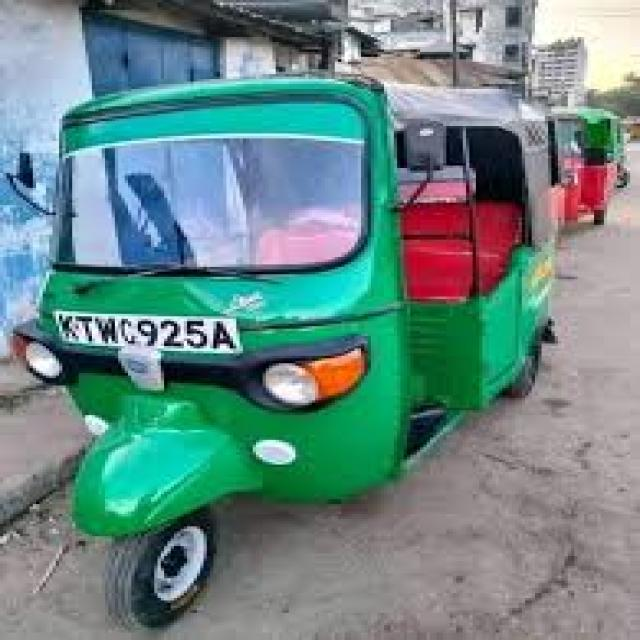tuktuk: (6, 32, 627, 640)
